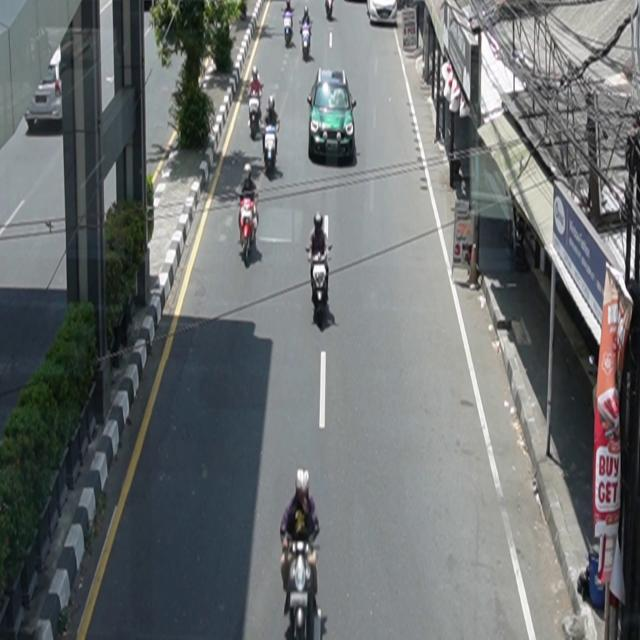car: (307, 69, 358, 164), (367, 1, 398, 26)
